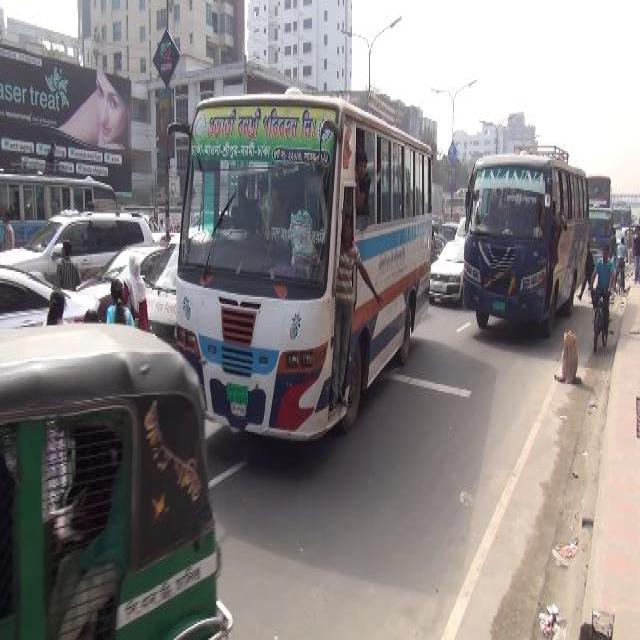ambulance: (138, 221, 210, 351)
bicycle: (587, 286, 611, 358)
bus: (174, 86, 432, 444), (464, 141, 590, 339), (0, 166, 117, 254), (587, 200, 613, 276), (587, 169, 611, 215), (611, 199, 631, 253)
car: (1, 254, 98, 340), (77, 234, 166, 306), (429, 234, 467, 306)
suv: (2, 209, 154, 299)
three wheelers -CNG-: (1, 318, 235, 638), (438, 210, 459, 244)
